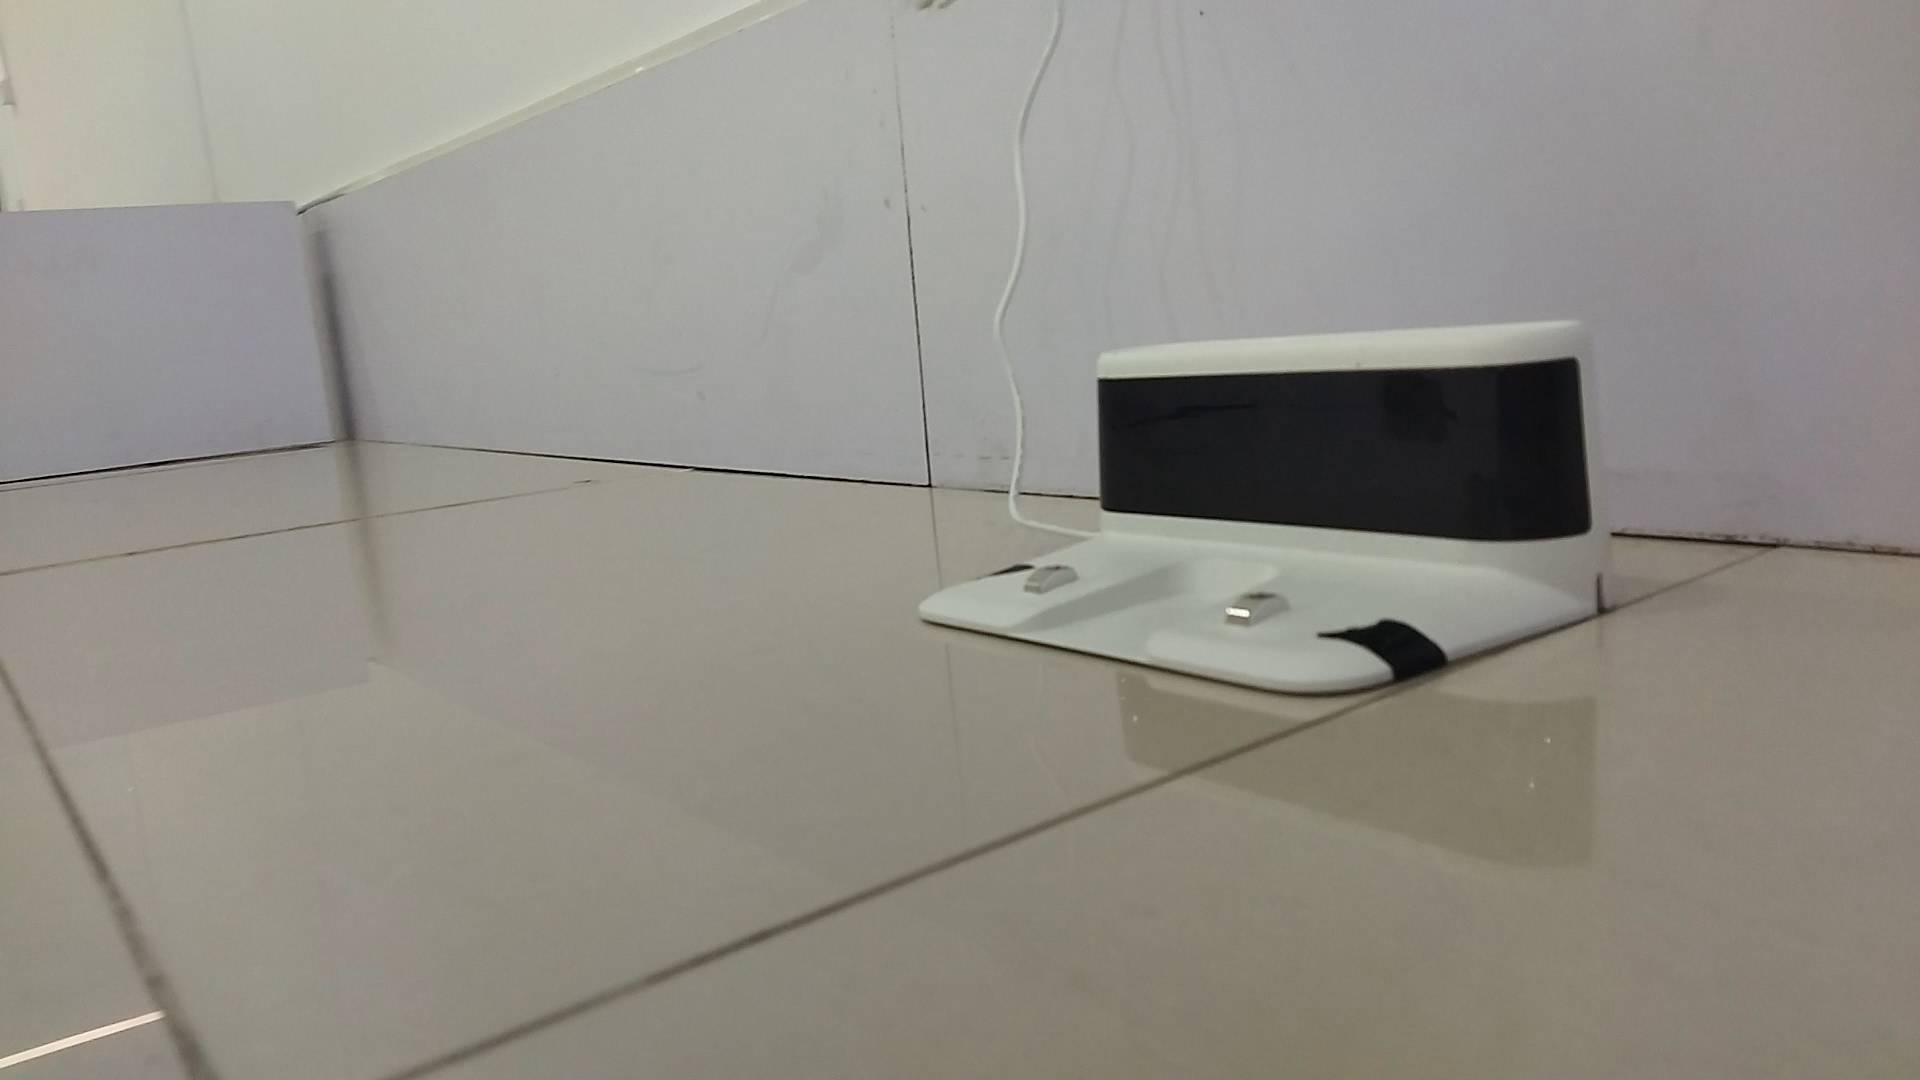recharge seat: (918, 320, 1623, 698)
